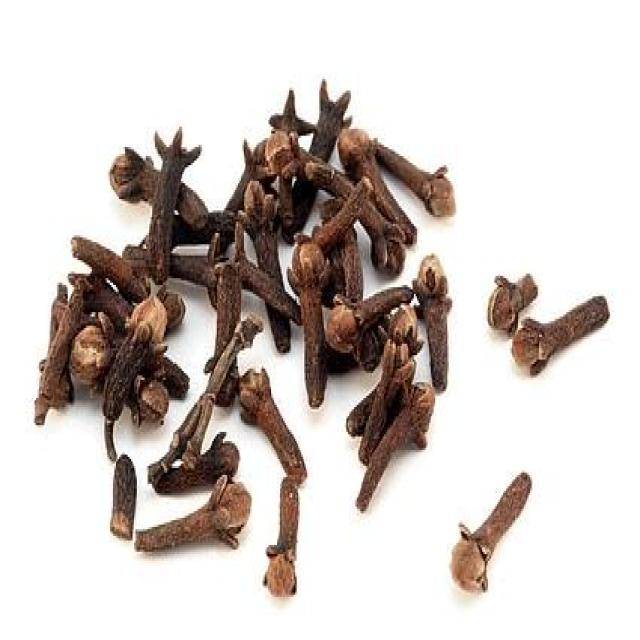clove: (36, 94, 455, 510), (149, 355, 256, 494)
